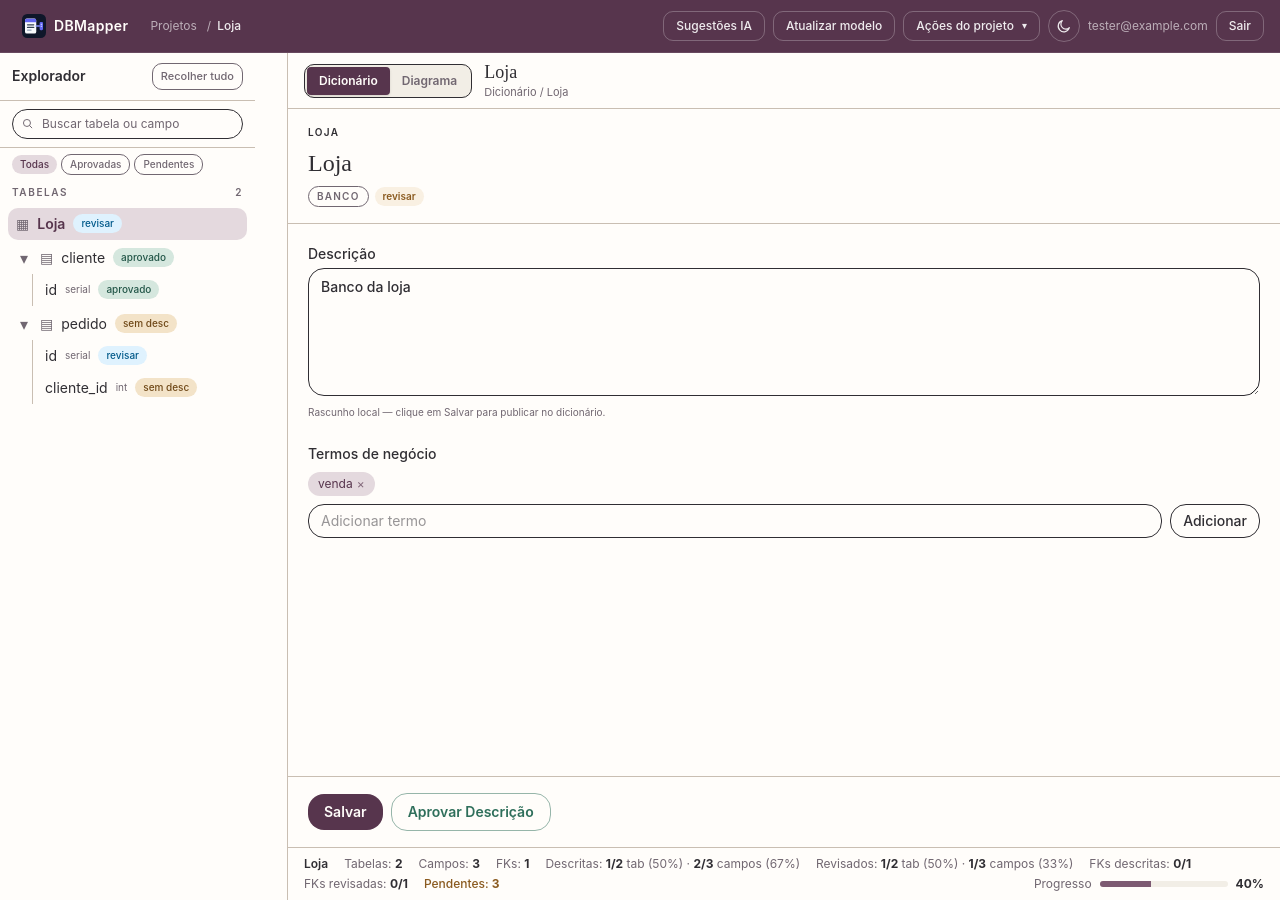
Test: WorkspacePage › salvar e aprovar atualiza os badges pela invalidação da query
The image size is (1280, 900).
Click the button with test id "column-row-pedido-cliente_id" at (142, 388), box [37,372,247,404]
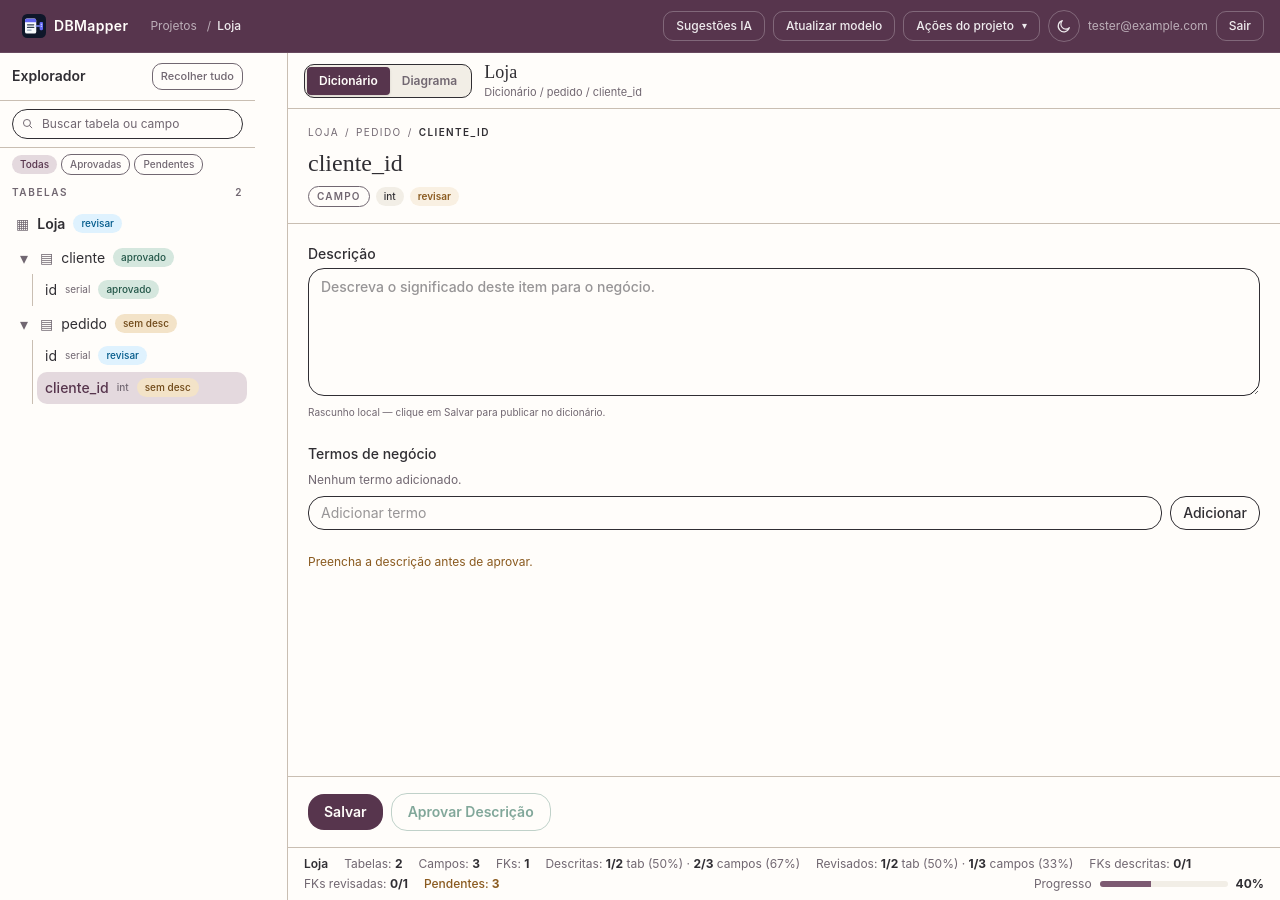
Type "Cliente do pedido" into the text box labelled "Descrição" at (784, 332), box [308,268,1260,396]
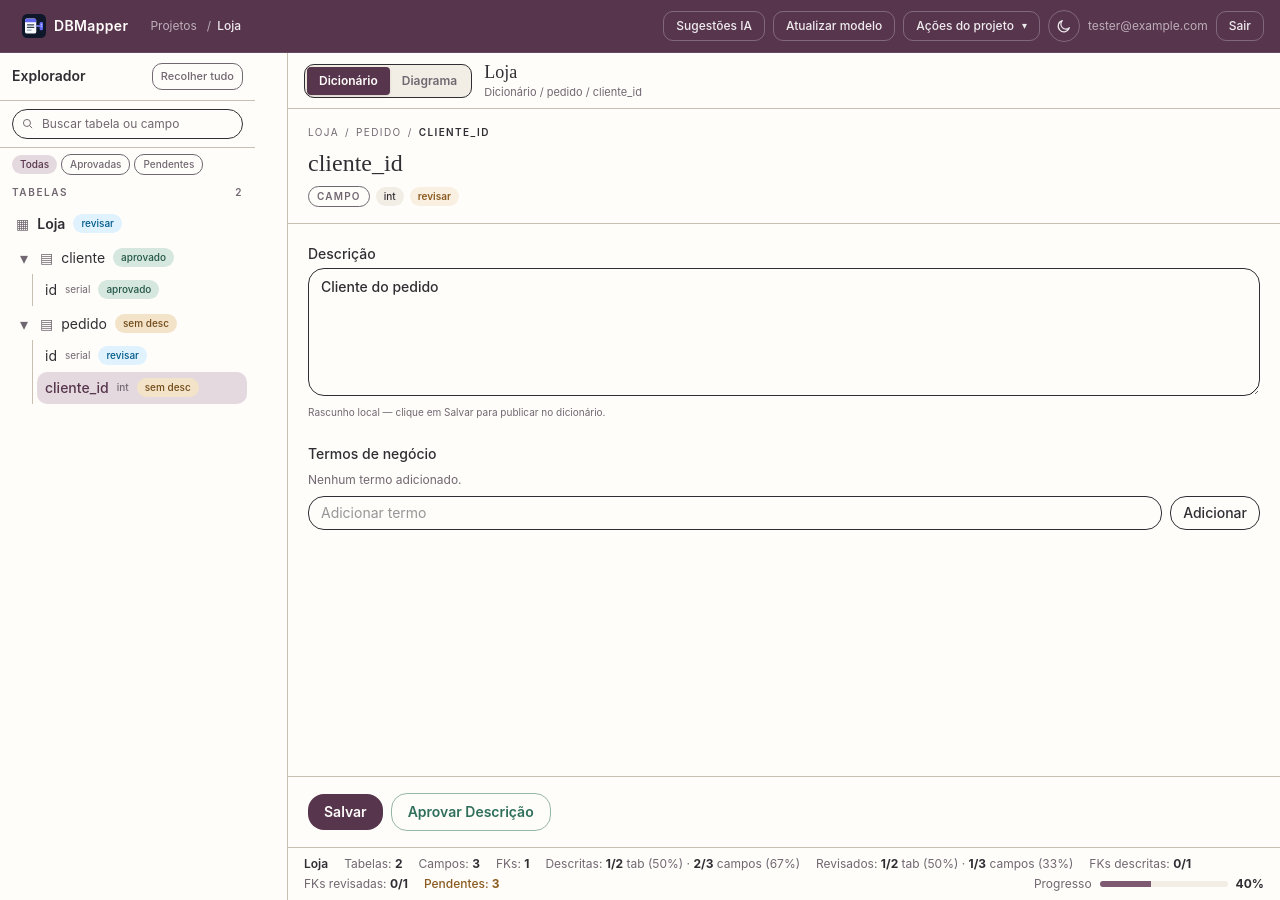
Click the button "Salvar" at (345, 812), box [308,794,383,830]
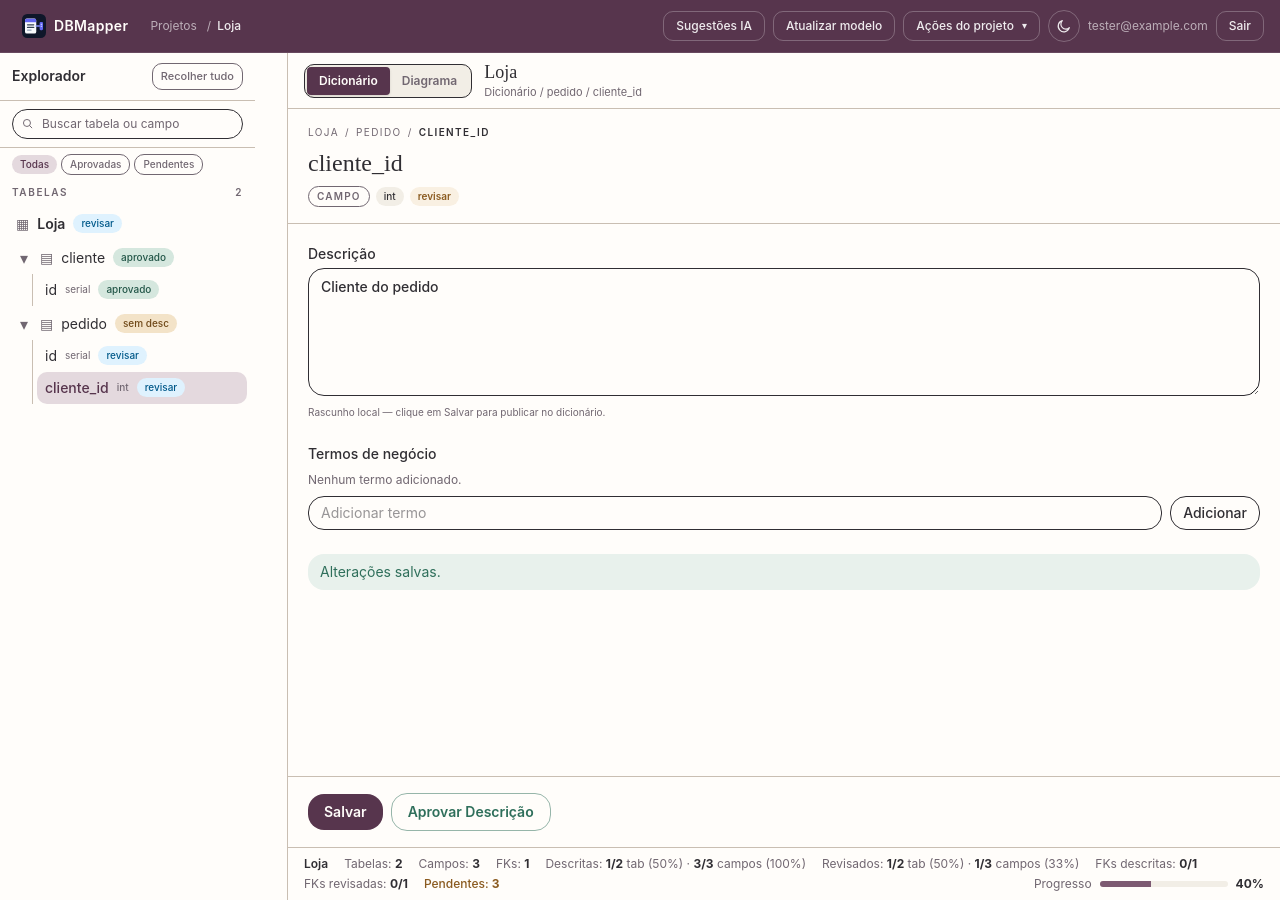
expect the 4th text "revisar" is shown: met, box [137,378,185,397]
Click the button "Aprovar Descrição" at (471, 812), box [391,793,551,831]
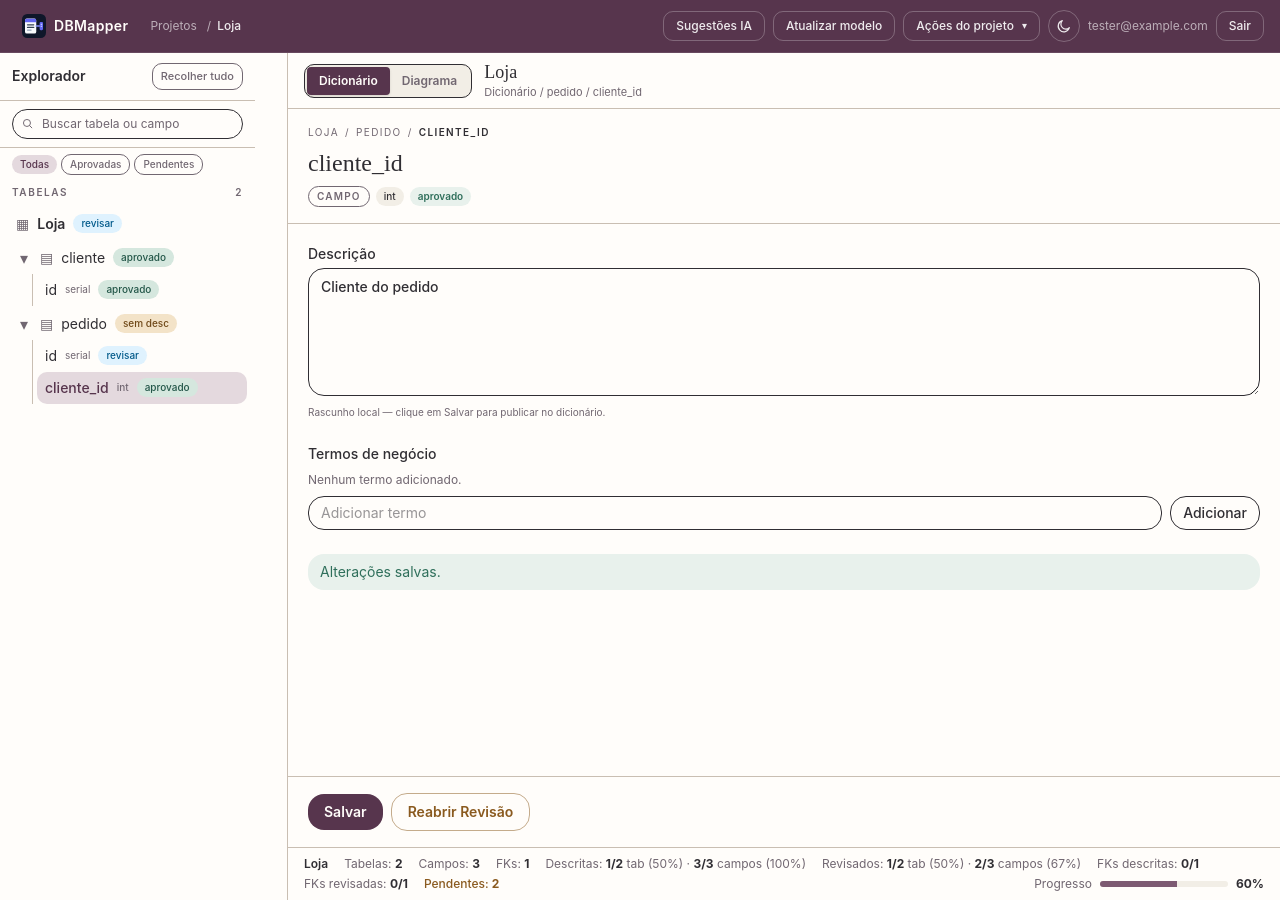
expect the 4th text "aprovado" is shown: met, box [137,378,198,397]
